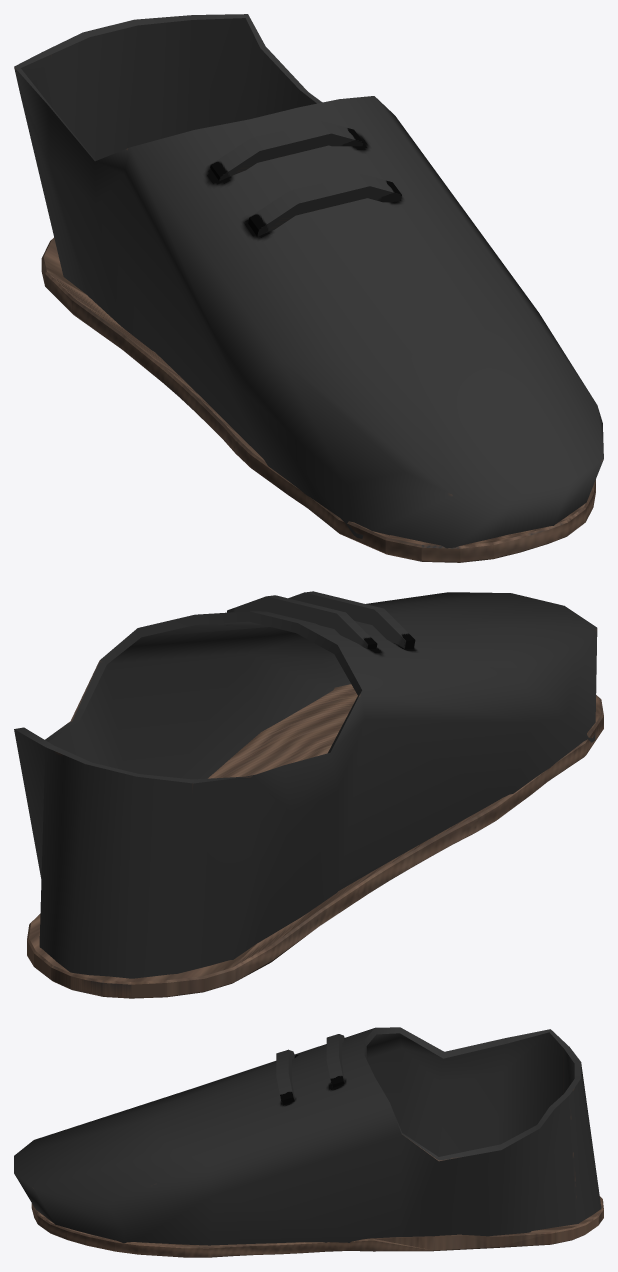
Rendered from Shoe_01.fbx.
3 views of the same model, one above another, from view 1: azimuth 30°, elevation 25°; view 2: azimuth 150°, elevation 25°; view 3: azimuth 270°, elevation 25° (orthographic). The views are drawn at different scales.
Parts seen in each view (by area): view 1: Shoe_bottom, Sole, Lace, lace; view 2: Shoe_bottom, Sole, lace, Lace; view 3: Shoe_bottom, Sole, Lace, lace.
Boxes of the visible parts, x1,y1,x2,y2 form: Shoe_bottom: [14, 14, 603, 548]; Sole: [41, 237, 595, 562]; Lace: [248, 173, 401, 236]; lace: [210, 121, 363, 180]; Shoe_bottom: [14, 592, 597, 978]; Sole: [27, 684, 603, 998]; lace: [224, 595, 377, 648]; Lace: [288, 591, 415, 648]; Shoe_bottom: [14, 1027, 601, 1245]; Sole: [31, 1196, 603, 1257]; Lace: [276, 1049, 294, 1105]; lace: [326, 1034, 344, 1087].
Size of the model in its own units: 15.29 by 12.37 by 39.96.
